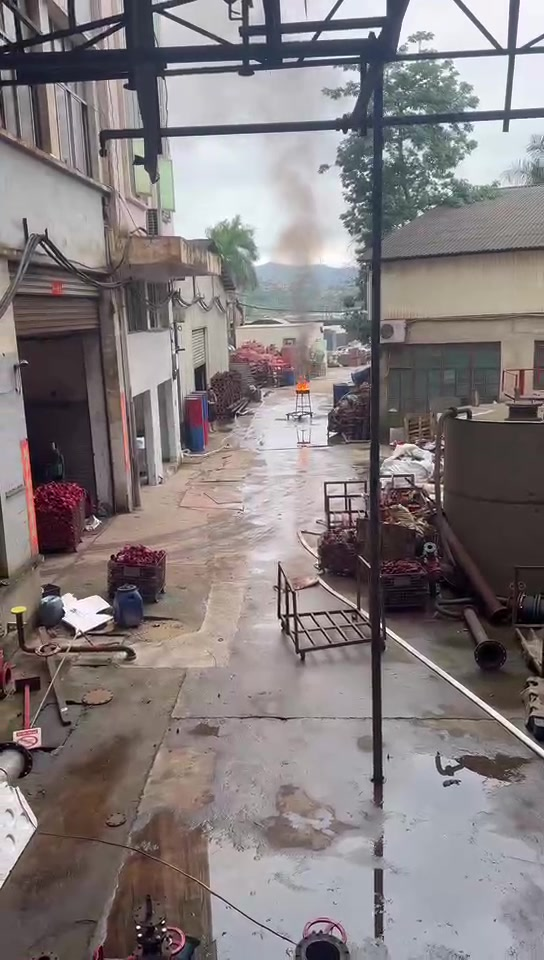fire: (295, 374, 310, 390)
